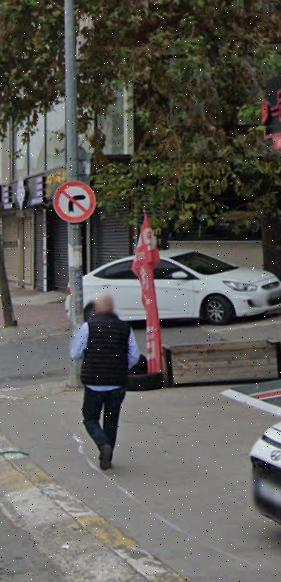rightturnsareforbidden: (57, 182, 93, 217)
